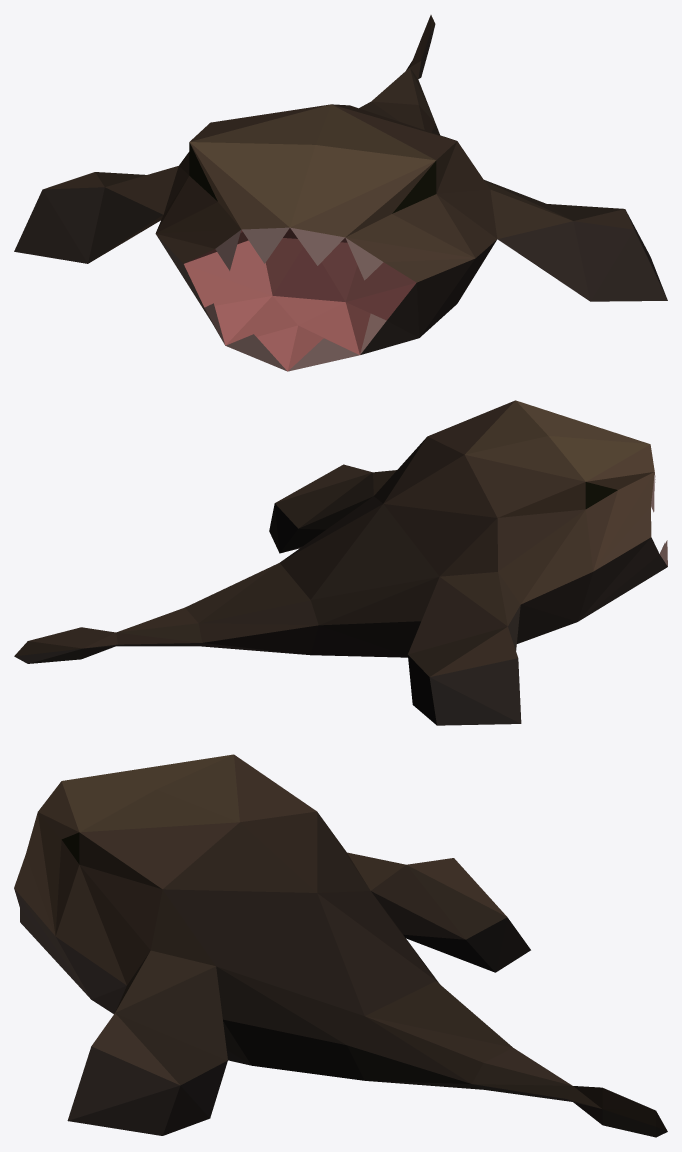
Rendered from monkfish.obj.
3 renders of one model, top to bottom at view 1: azimuth 30°, elevation 25°; view 2: azimuth 150°, elevation 25°; view 3: azimuth 270°, elevation 25°, orthographic. The views are drawn at different scales.
Visible parts, largest first — view 1: Item Monkfish 2026-09-13_16-42-15; view 2: Item Monkfish 2026-09-13_16-42-15; view 3: Item Monkfish 2026-09-13_16-42-15.
Part boxes in pixels (bbox=[...]): Item Monkfish 2026-09-13_16-42-15: bbox=[14, 15, 667, 371]; Item Monkfish 2026-09-13_16-42-15: bbox=[14, 400, 667, 725]; Item Monkfish 2026-09-13_16-42-15: bbox=[14, 754, 667, 1137].
Size of the model in its own units: 97 by 35 by 110.
